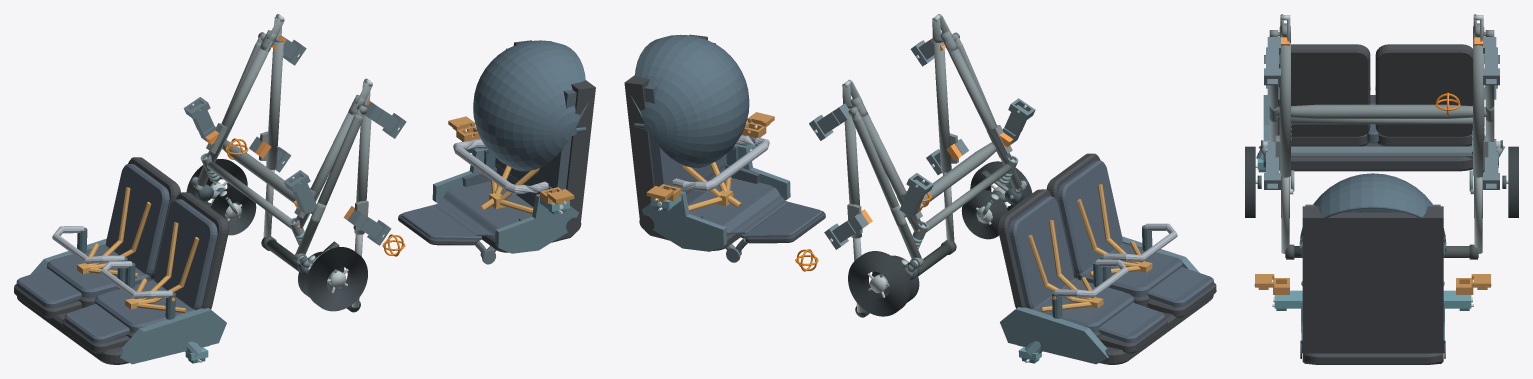
Rendered from D23_w650_state3_wheel_S.glb.
3 renders of one model, left to right at view 1: azimuth 30°, elevation 25°; view 2: azimuth 150°, elevation 25°; view 3: azimuth 270°, elevation 25°, orthographic. The views are drawn at different scales.
Visible parts, largest first — view 1: D23_Upper, D23_Lower, D23_Lower_Mount_L, RL_tire.011, main_upper_1.012, V46_rear_leg_-1.011, main_lower_1.012, FR_tire.011, V46_rearbar.011, main_lower_-1.012, main_upper_-1.012, front_fixed_round_tube.011 (+7 smaller); view 2: D23_Upper, D23_Lower, D23_Lower_Mount_L, RR_tire.011, main_upper_-1.012, V46_rear_leg_1.011, FL_tire.011, main_lower_-1.012, V46_rearbar.011, main_lower_1.012, main_upper_1.012, front_fixed_round_tube.011 (+9 smaller); view 3: D23_Lower, D23_Upper, V46_rearbar.011, main_upper_1.012, main_upper_-1.012, D23_Lower_Mount_L, front_fixed_round_tube.011, RL_tire.011, RR_tire.011, Universal_Cabin_Receiver_M_1, Universal_Cabin_Receiver_M_-1, handle_slider_1.013 (+9 smaller).
Boxes of the visible parts, x1,y1,x2,y2 form: D23_Upper: (14,157,228,364); D23_Lower: (398,40,595,264); D23_Lower_Mount_L: (432,139,578,253); RL_tire.011: (306,247,367,311); main_upper_1.012: (266,41,283,169); V46_rear_leg_-1.011: (295,113,363,254); main_lower_1.012: (206,41,272,162); FR_tire.011: (210,187,256,235); V46_rearbar.011: (222,140,314,213); main_lower_-1.012: (295,111,356,228); main_upper_-1.012: (354,107,371,234); front_fixed_round_tube.011: (207,161,291,228); D23_Upper: (997,153,1216,364); D23_Lower: (624,34,825,262); D23_Lower_Mount_L: (641,135,790,251); RR_tire.011: (848,251,910,316); main_upper_-1.012: (933,42,951,172); V46_rear_leg_1.011: (852,115,921,258); FL_tire.011: (961,190,1007,239); main_lower_-1.012: (945,42,1012,164); V46_rearbar.011: (902,142,996,217); main_lower_1.012: (859,112,922,232); main_upper_1.012: (844,108,861,238); front_fixed_round_tube.011: (926,164,1011,232); D23_Lower: (1299,173,1446,364); D23_Upper: (1263,44,1472,171); V46_rearbar.011: (1276,104,1487,118); main_upper_1.012: (1473,42,1484,177); main_upper_-1.012: (1279,42,1290,177); D23_Lower_Mount_L: (1272,290,1473,353); front_fixed_round_tube.011: (1291,117,1472,124); RL_tire.011: (1245,146,1255,217); RR_tire.011: (1508,146,1518,217); Universal_Cabin_Receiver_M_1: (1483,37,1499,85); Universal_Cabin_Receiver_M_-1: (1264,37,1280,85); handle_slider_1.013: (1474,177,1482,253).
Bounding box in the file's own units: 1.83 × 0.7826 × 0.766.
